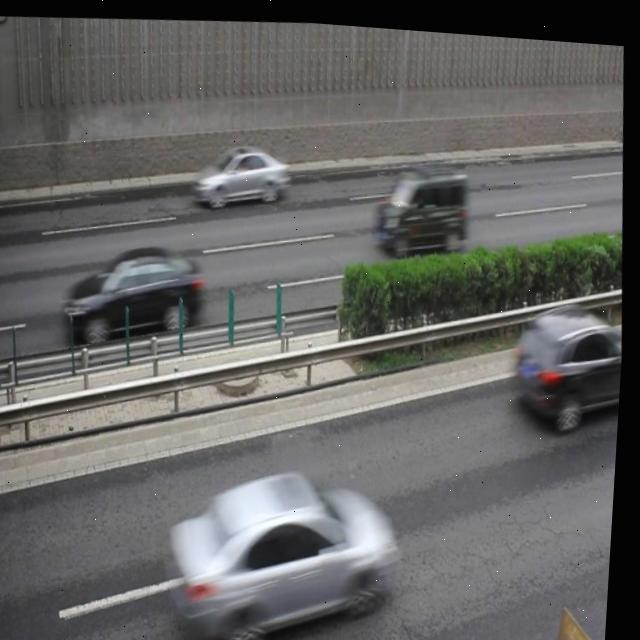car: (164, 449, 409, 640), (61, 231, 213, 352), (510, 286, 628, 424), (370, 152, 475, 256), (191, 133, 295, 210)
